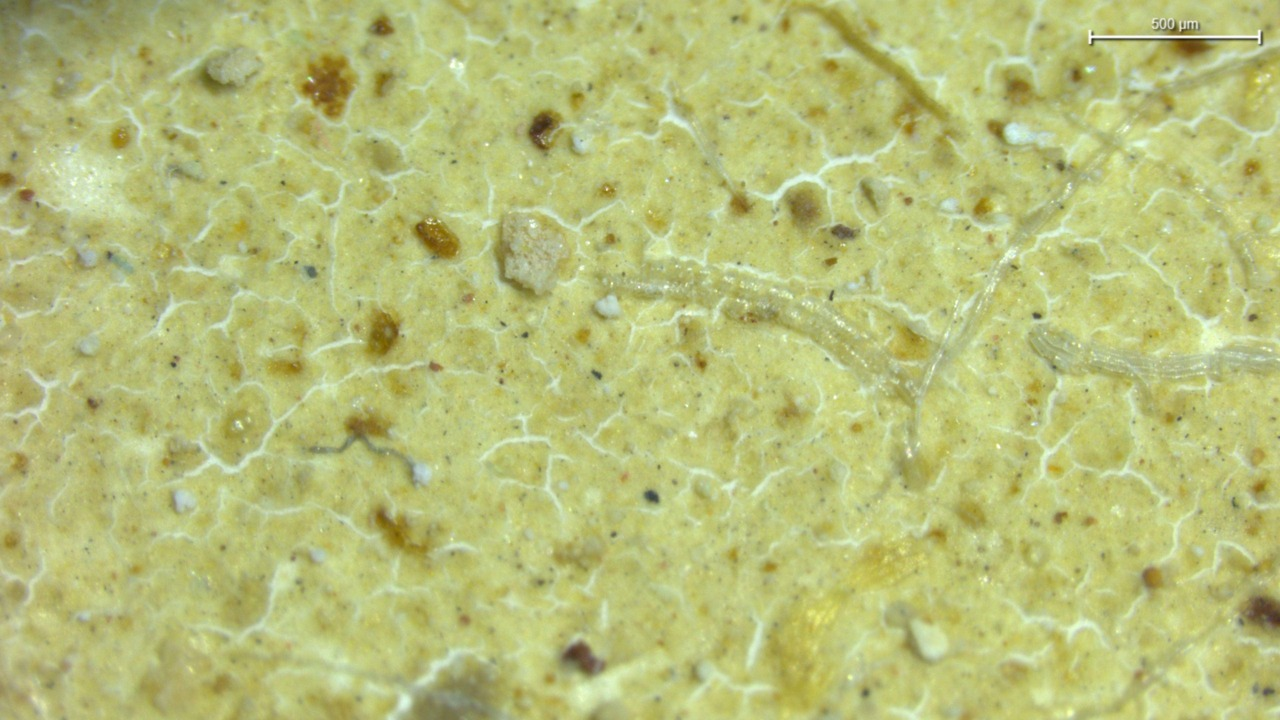microplastic_fragment: (496, 211, 571, 295), (207, 47, 263, 86), (909, 619, 948, 662), (1003, 122, 1036, 145), (594, 295, 622, 318), (411, 462, 431, 487)
